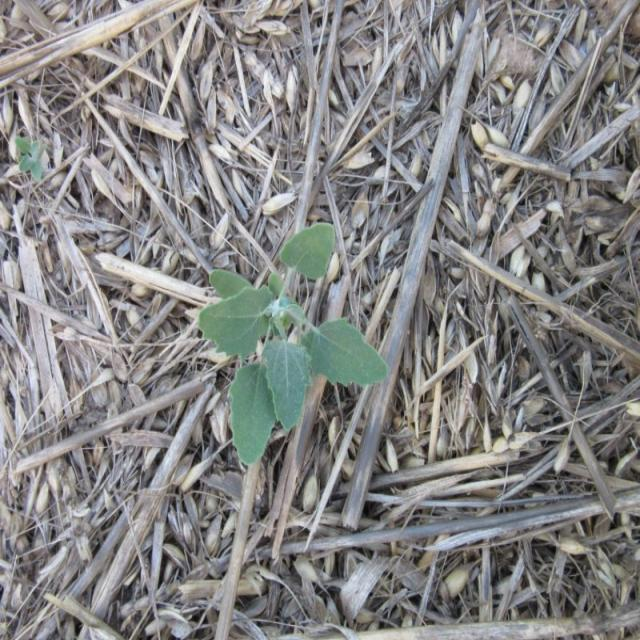ca: (200, 224, 388, 459)
